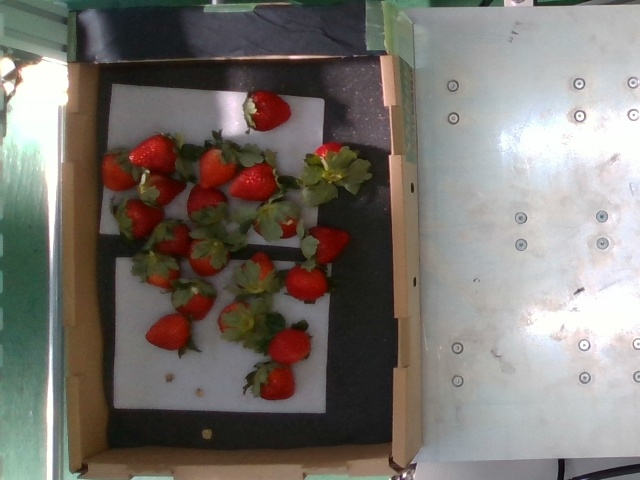strawberry: (130, 136, 179, 175), (120, 198, 165, 240), (246, 91, 293, 131), (171, 280, 215, 322), (307, 226, 350, 268), (254, 200, 299, 240), (267, 329, 312, 368), (240, 250, 278, 296), (285, 266, 328, 305), (228, 165, 277, 199), (189, 239, 230, 278), (148, 314, 191, 351), (255, 364, 297, 401), (188, 184, 223, 226), (102, 150, 137, 191), (155, 218, 192, 256), (200, 148, 234, 189), (142, 255, 179, 291), (315, 144, 348, 183), (218, 302, 254, 335)
